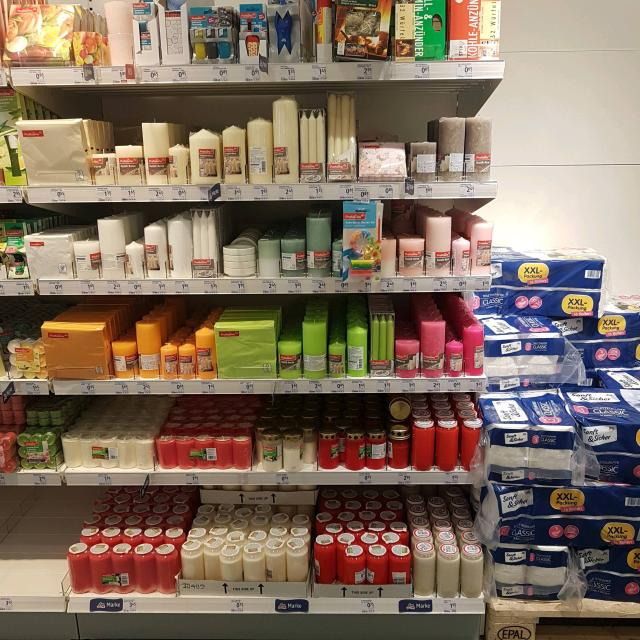unorganised: (475, 255, 605, 319), (394, 196, 414, 235), (386, 394, 414, 421), (301, 427, 318, 464), (25, 410, 63, 426)
